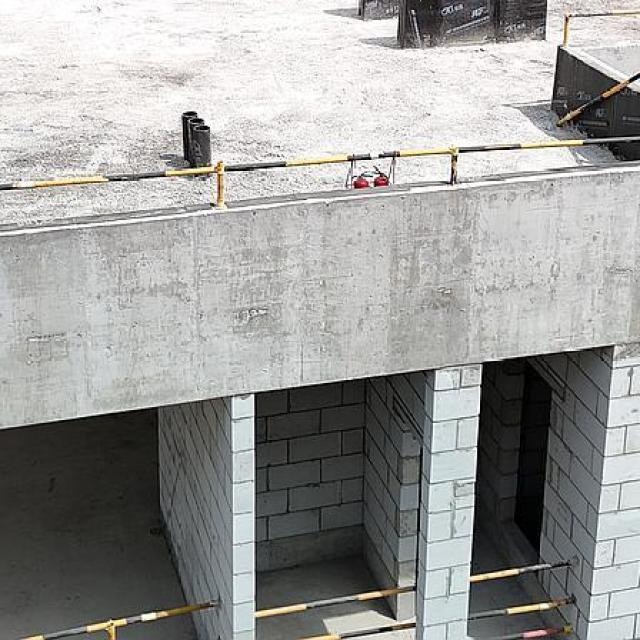edge_guardrail: (0, 133, 640, 208), (253, 584, 418, 640), (468, 558, 575, 640), (20, 598, 223, 640), (555, 71, 640, 128), (561, 11, 640, 46)
